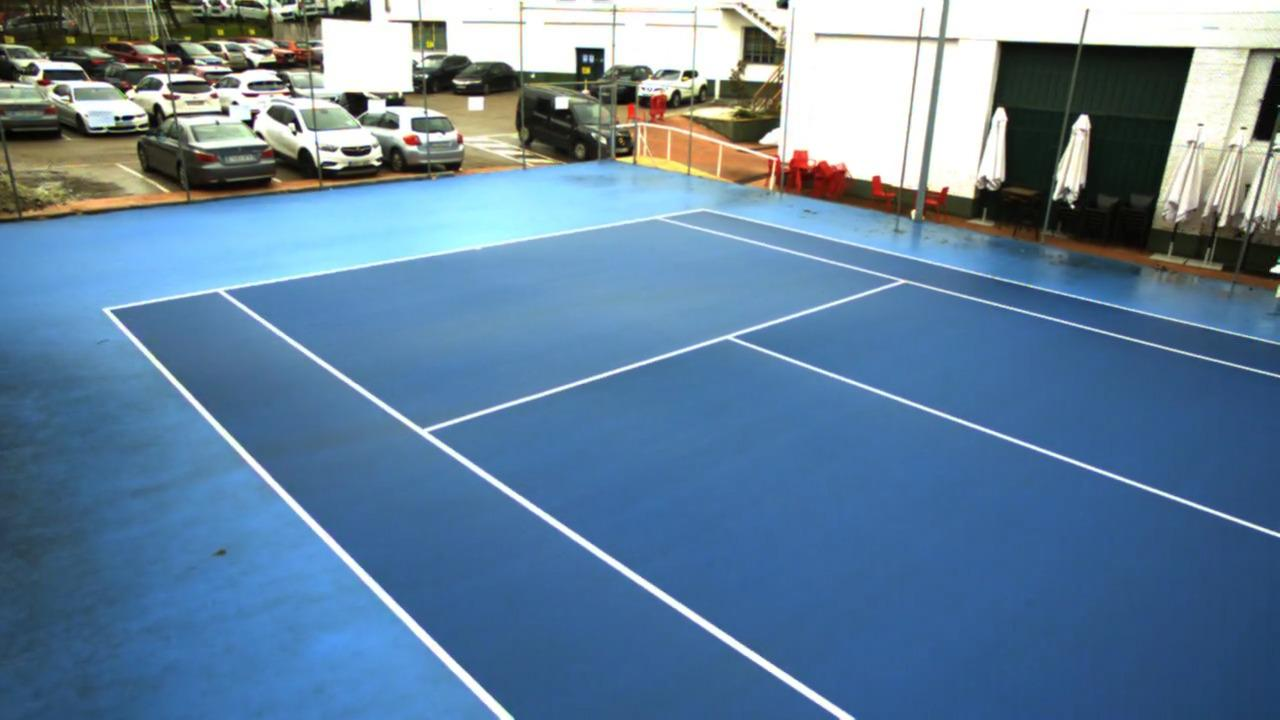cancha_tenis: (220, 218, 1280, 720)
point_f1: (206, 277, 237, 305)
point_f2: (645, 209, 675, 227)
point_fc1: (468, 239, 485, 255)
point_i1: (407, 416, 446, 447)
point_i2: (877, 270, 912, 293)
point_ic1: (715, 326, 744, 349)
